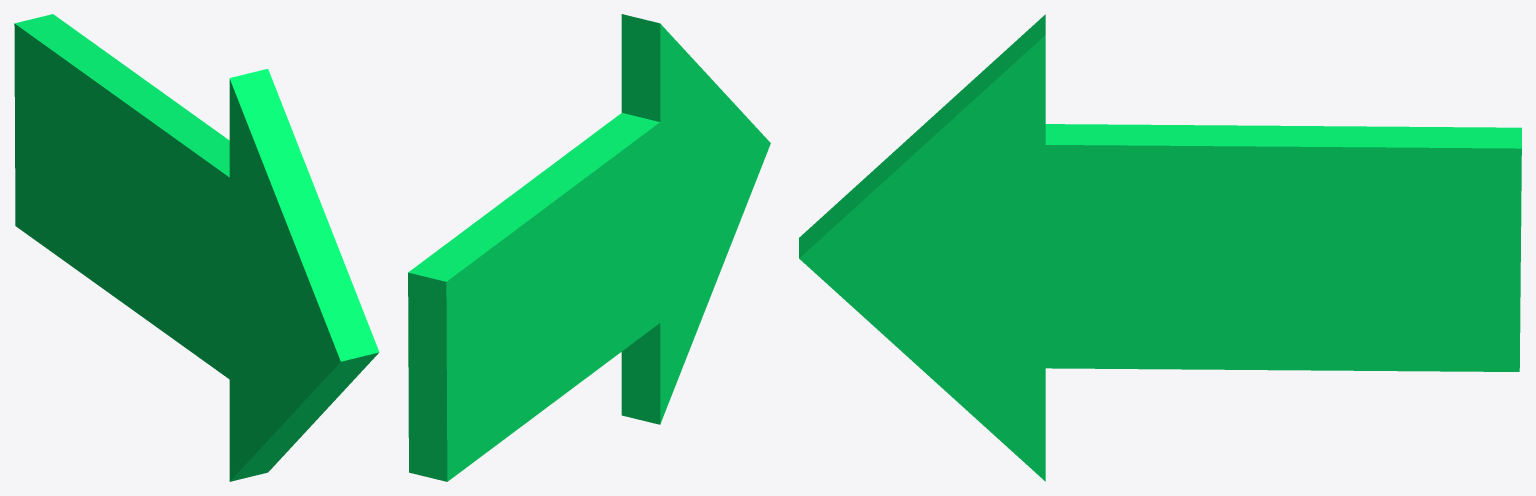
Rendered from arrow.fbx.
3 views of the same model, side by side, from view 1: azimuth 30°, elevation 25°; view 2: azimuth 150°, elevation 25°; view 3: azimuth 270°, elevation 25° (orthographic). The views are drawn at different scales.
Visible parts, largest first — view 1: Arrow; view 2: Arrow; view 3: Arrow.
Part boxes in pixels (x1,y1,x2,y2): Arrow: (14,14,379,481); Arrow: (408,14,770,481); Arrow: (799,14,1521,481).
Bounding box in the file's own units: 0.5 × 5 × 7.33.
